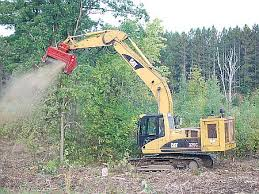bulldozer: (44, 29, 230, 171)
